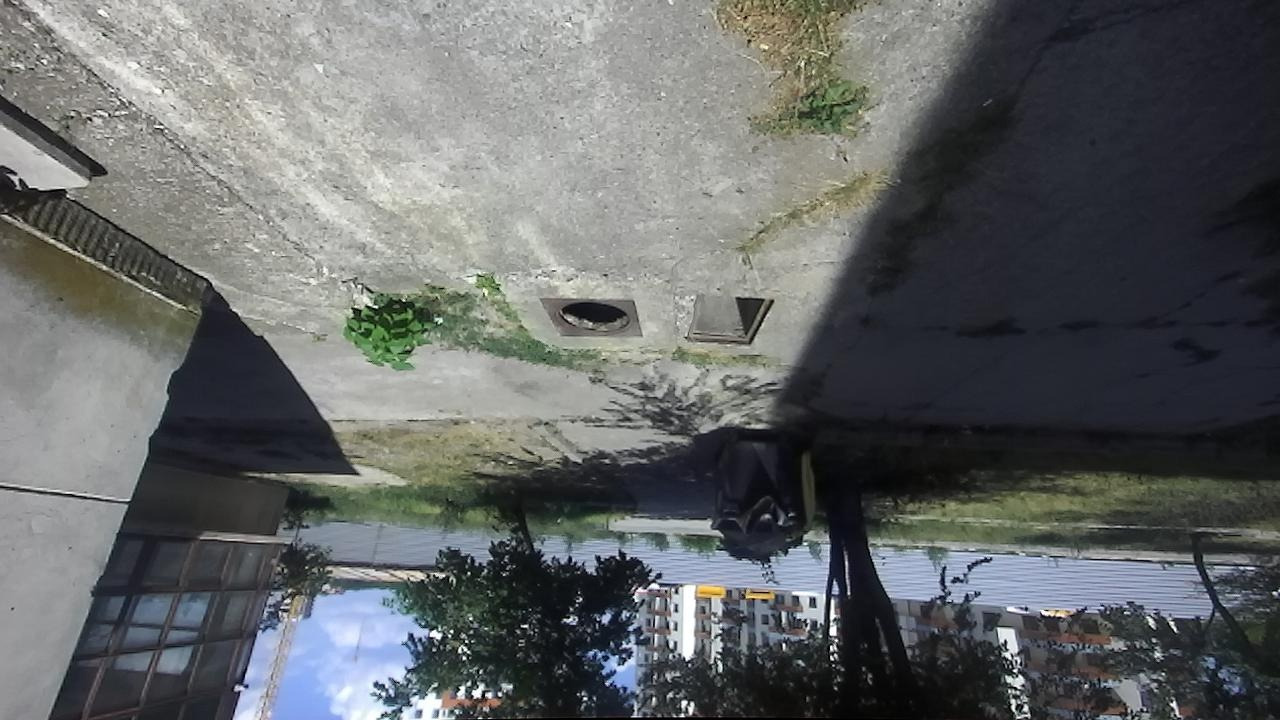drain: (685, 296, 777, 345), (551, 297, 636, 337)
